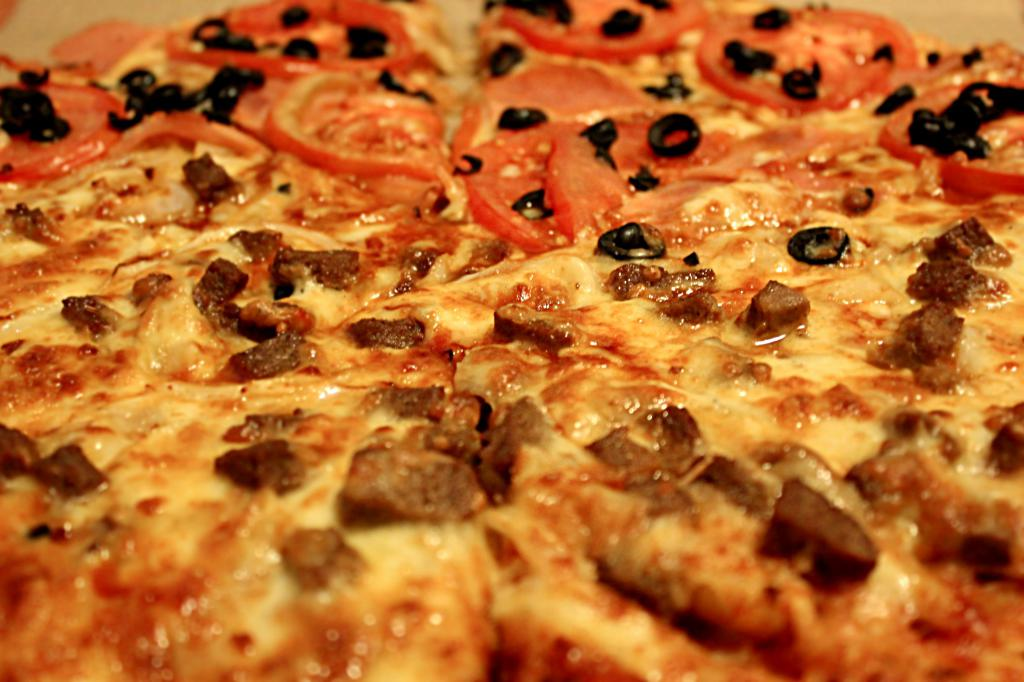Pizza: (2, 0, 1023, 676)
